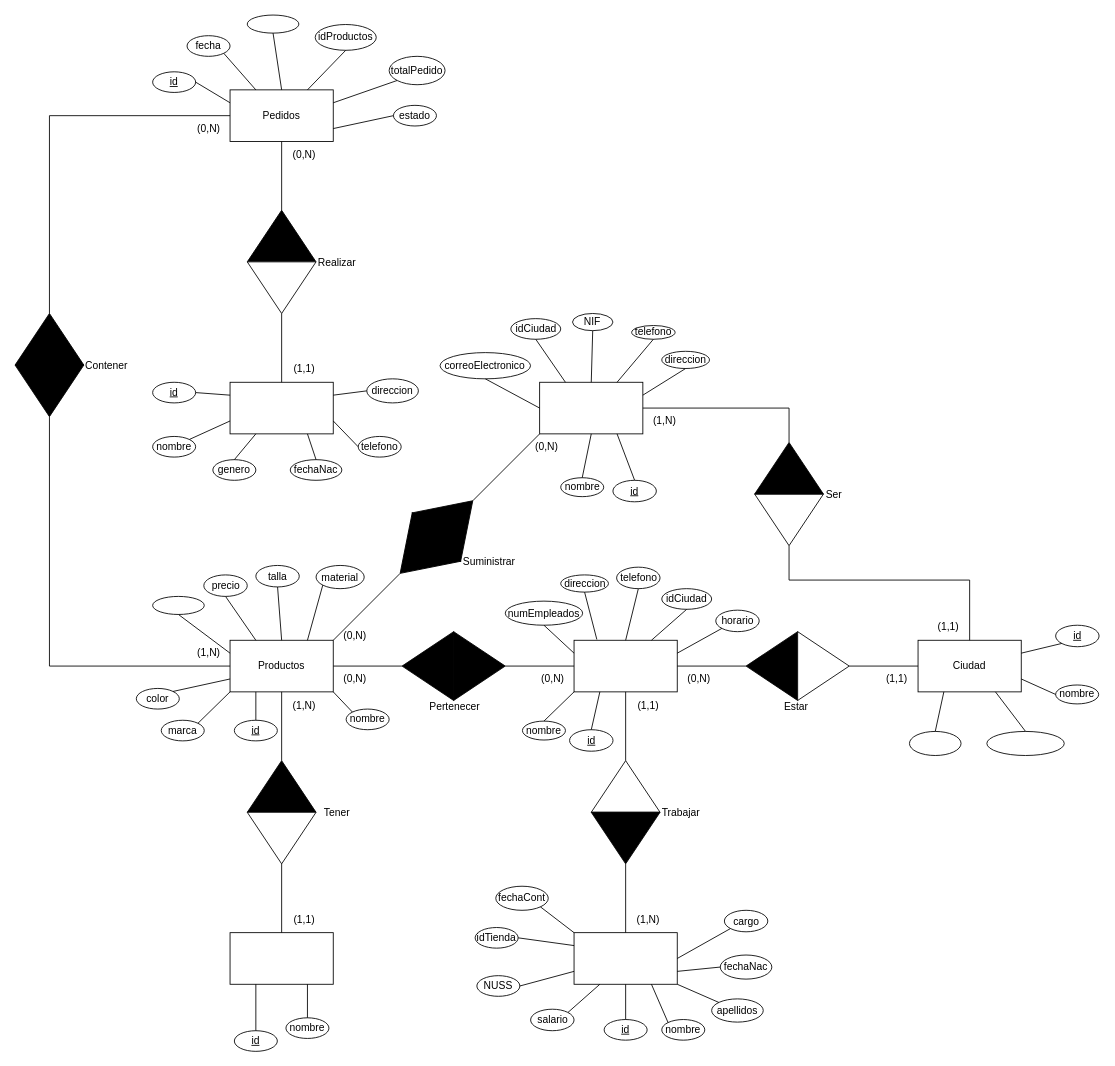
The diagram is 1115 pixels wide and 1066 high, and some of its shapes have lost their labels. The box of each missing label's shape, as (x1, y1, x2, y2) in pixels:
Clientes: (229, 381, 333, 434)
Empleados: (573, 932, 677, 984)
idCliente: (246, 14, 299, 33)
idTipo: (152, 596, 204, 614)
numHabitantes: (986, 731, 1064, 756)
Proveedores: (539, 381, 643, 434)
provincia: (909, 731, 961, 756)
Tienda: (573, 639, 677, 692)
Tipo: (229, 932, 333, 984)
